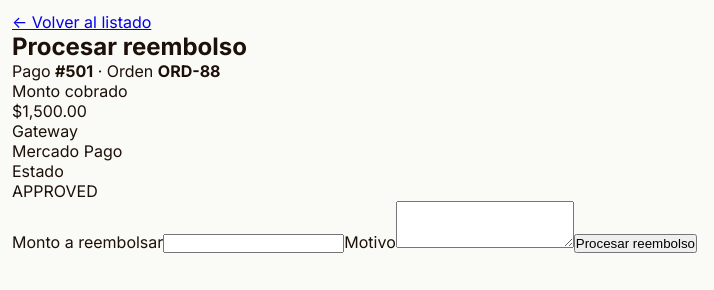
AdminPaymentRefundPage (UC-PAY-09) › muestra confirmacion tras un reembolso exitoso
This screenshot has width=714, height=290.
Expected: the heading "Procesar reembolso" is shown, left=12, top=32, right=247, bottom=61
Type "1500" into the number field labelled "Monto a reembolsar" at coordinates (254, 244), box left=163, top=234, right=344, bottom=253
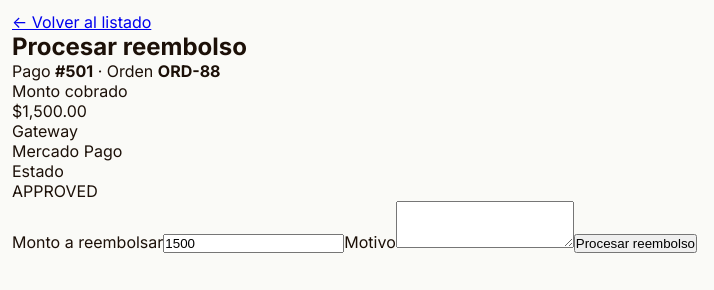
Type "Cancelacion total por solicitud" into the text box labelled "Motivo" at coordinates (485, 224), box left=396, top=201, right=574, bottom=248
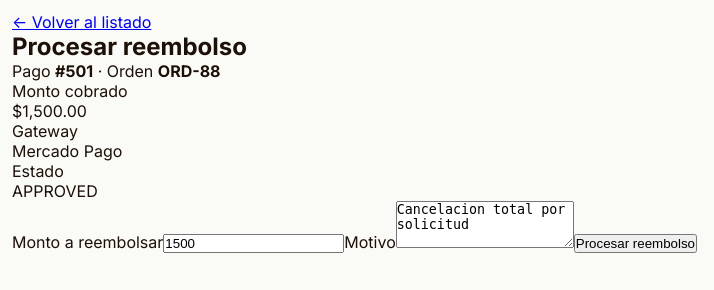
Click the button "Procesar reembolso" at coordinates (635, 244), box left=574, top=234, right=697, bottom=253
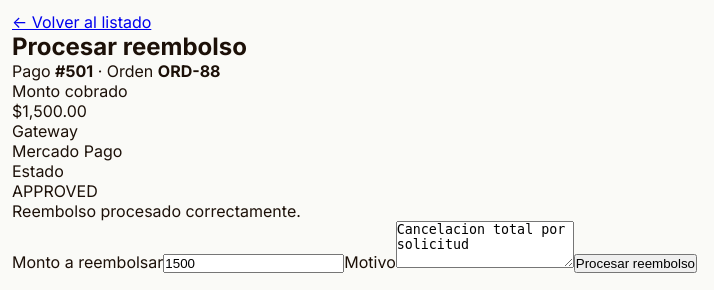
Expected: the text "Reembolso procesado correctamente." is shown, left=12, top=201, right=301, bottom=221
